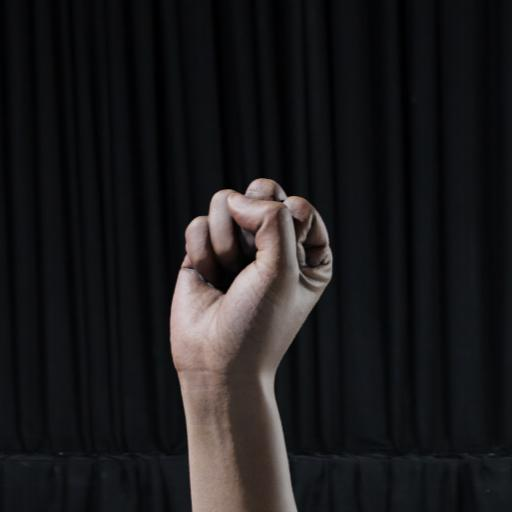S: (148, 159, 344, 408)
